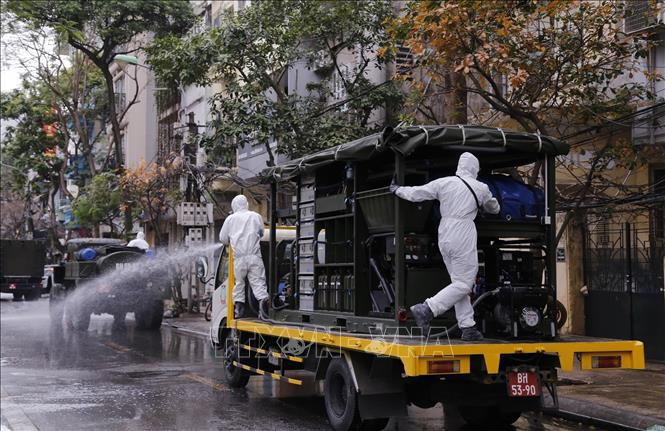plate: (503, 369, 542, 402)
